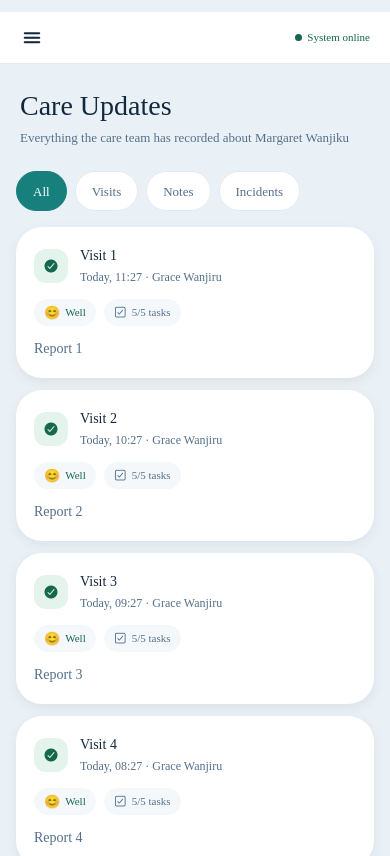
Scenario: filters › asks the service for incidents rather than hiding what is loaded
The width and height of the screenshot is (390, 856).
Expected: the text "Visit 1" is shown, top-left (80, 245), bottom-right (117, 267)
Click the radio button labelled "Incidents".
click(259, 191)  # box top-left (218, 171), bottom-right (300, 211)
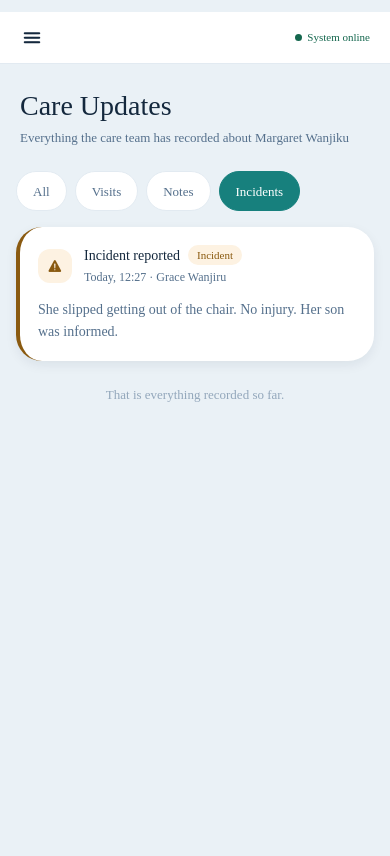
Now the text "Incident reported" is shown, box top-left (84, 245), bottom-right (180, 267)
Now the text "Visit 1" is gone
